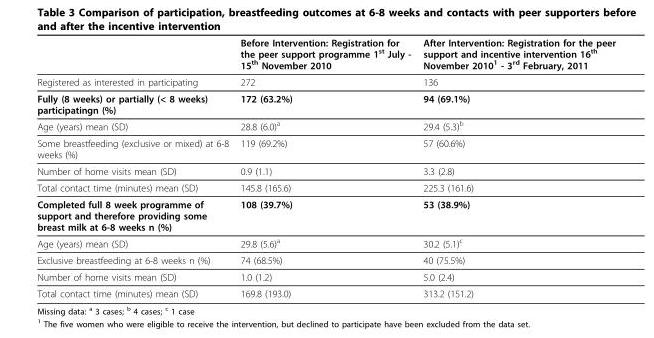table: (36, 36, 614, 298)
table column: (416, 36, 614, 298), (36, 36, 233, 298), (233, 36, 416, 298)
table column header: (36, 36, 614, 73)
table row: (36, 195, 614, 234), (36, 36, 614, 73), (36, 89, 614, 117), (36, 134, 614, 162), (36, 117, 614, 134), (36, 162, 614, 179), (36, 234, 614, 251), (36, 251, 614, 268), (36, 73, 614, 89), (36, 179, 614, 195), (36, 268, 614, 284), (36, 284, 614, 298)
